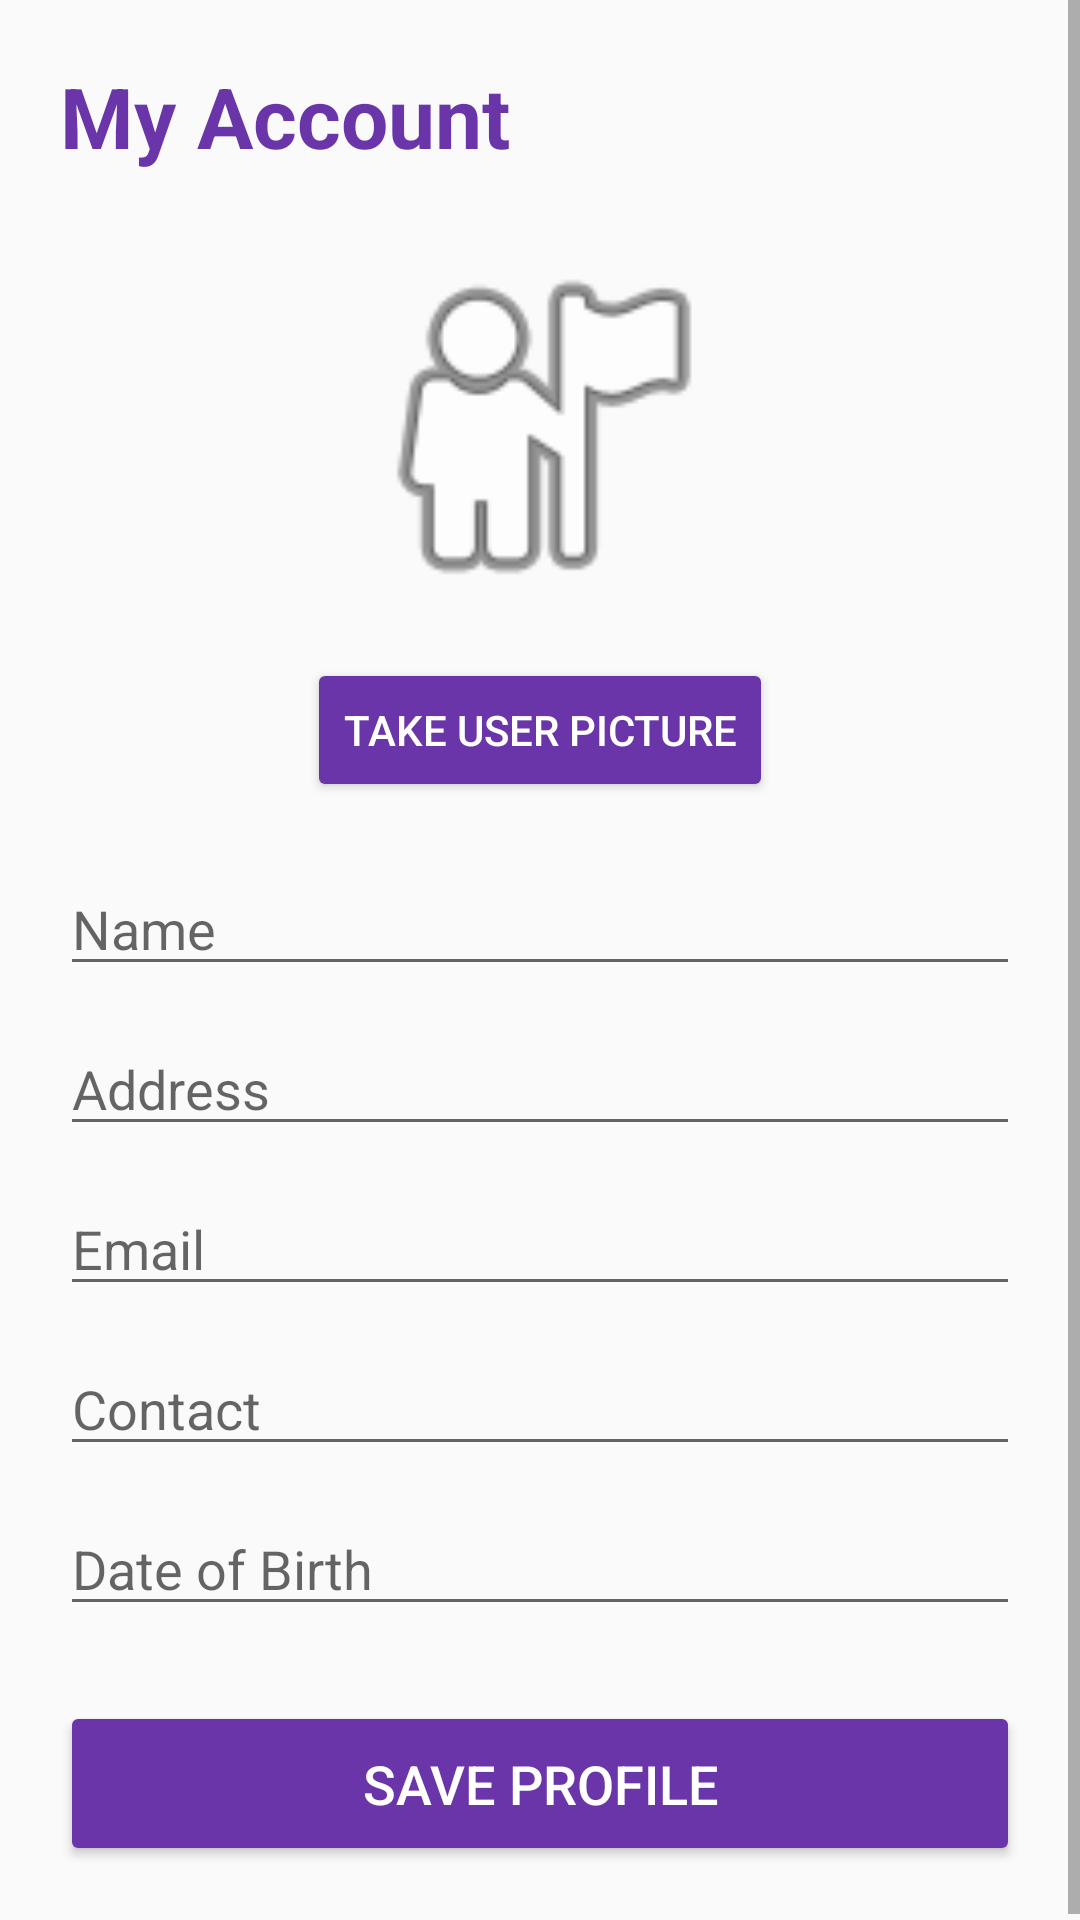

Locate icon controls on the screen. Image size 1080w x 1920h, boxes as (x1, y1, x2, y2).
myplaces: (397, 281, 691, 573)
